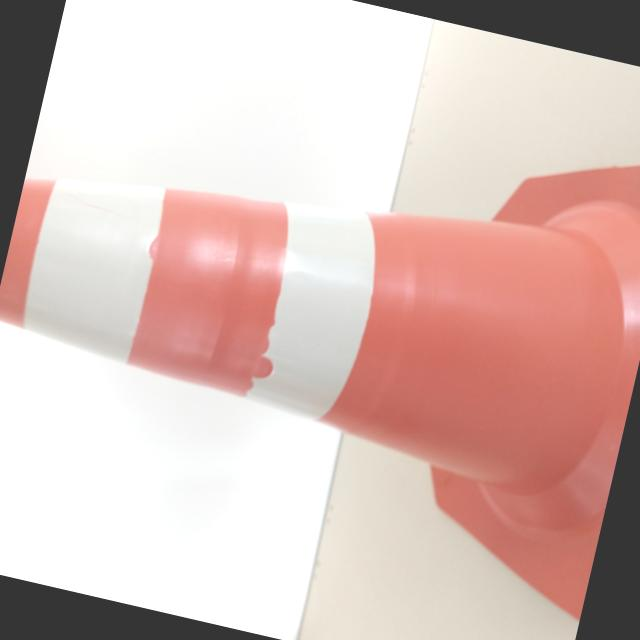cone: (0, 5, 640, 611)
